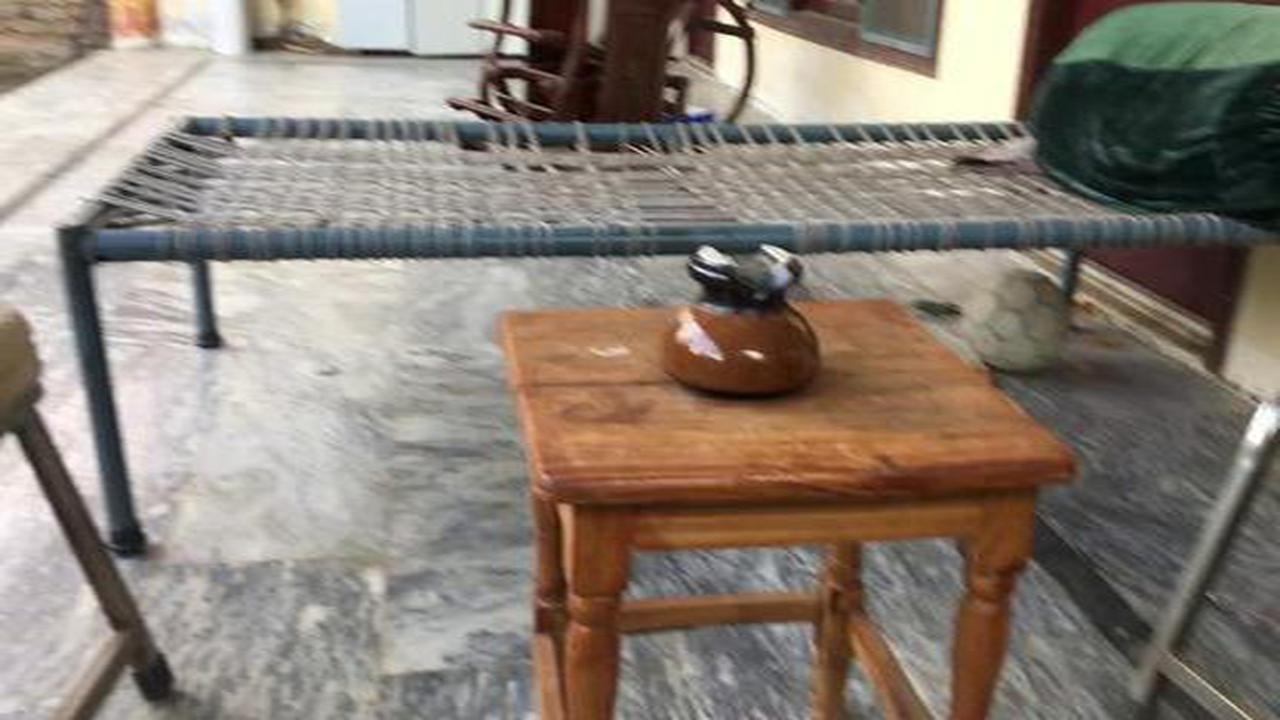insulator_pin: (653, 234, 841, 414)
